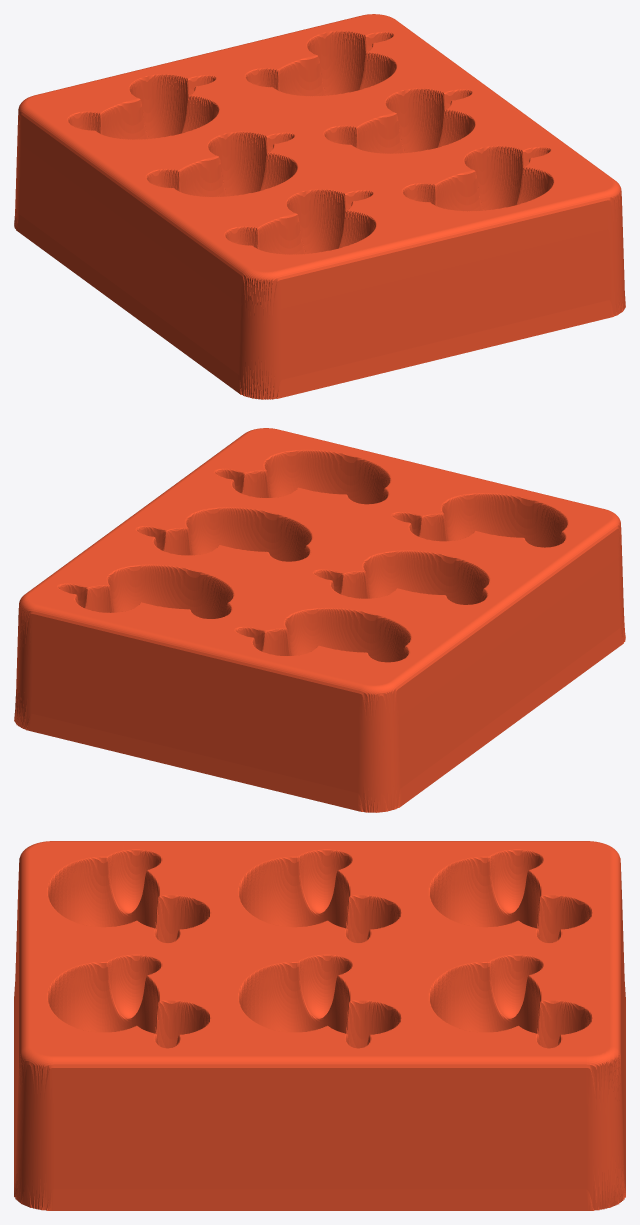
File: mold.glb
3 views of the same model, one above another, from view 1: azimuth 30°, elevation 25°; view 2: azimuth 150°, elevation 25°; view 3: azimuth 270°, elevation 25° (orthographic). The views are drawn at different scales.
Parts seen in each view (by area): view 1: geometry_0; view 2: geometry_0; view 3: geometry_0.
Part boxes in pixels (box(x1,y1,x2,y2)): geometry_0: box(14, 14, 625, 399); geometry_0: box(14, 428, 625, 812); geometry_0: box(14, 841, 625, 1210).
Size of the model in its own units: 0.124 by 0.0377 by 0.1411.
